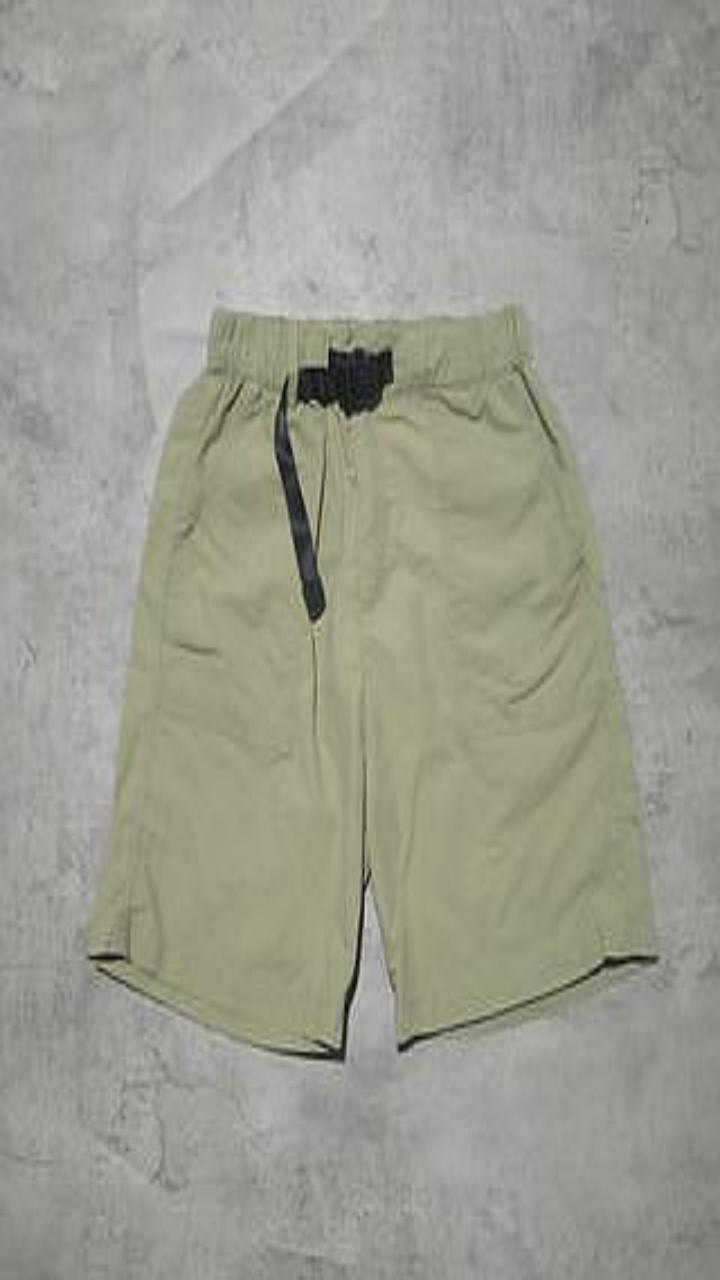Shorts: (86, 303, 657, 1055)
